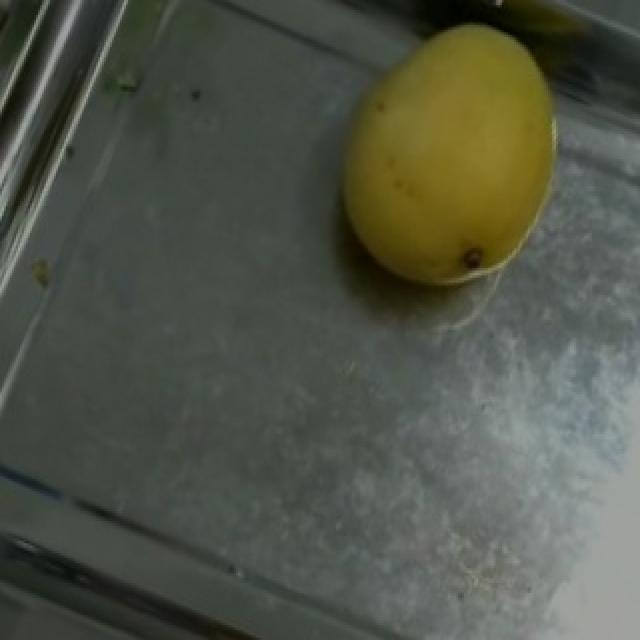fruit: (294, 0, 606, 327)
